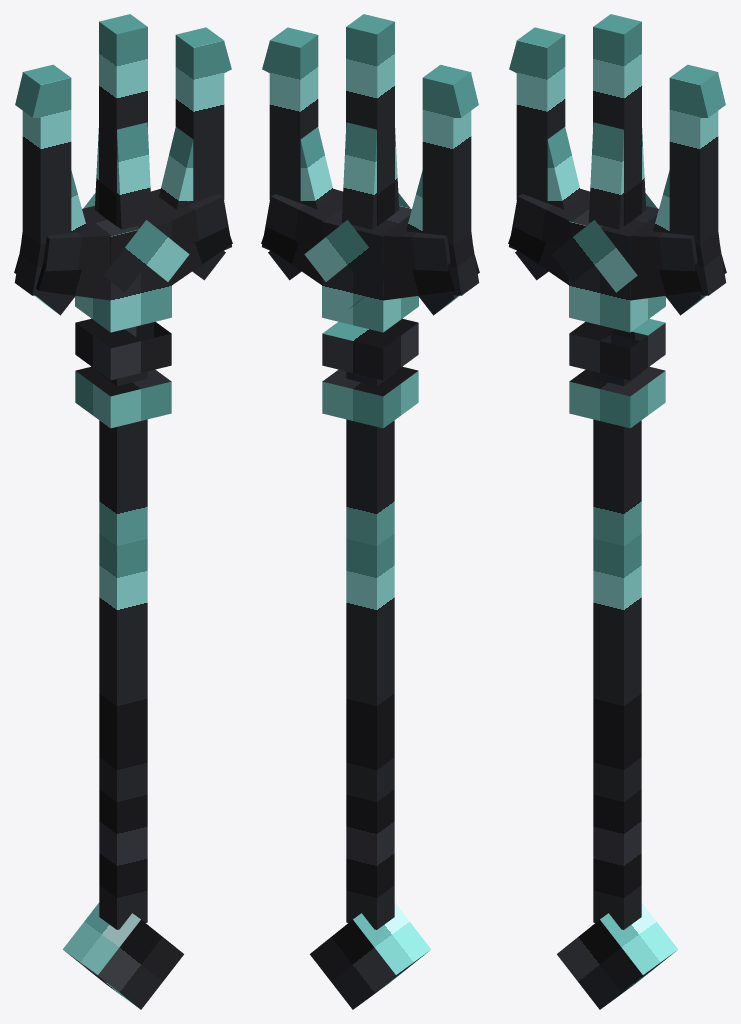
The model's file is infinity_trident.obj.
3 views of the same model, side by side, from view 1: azimuth 30°, elevation 25°; view 2: azimuth 150°, elevation 25°; view 3: azimuth 330°, elevation 25° (orthographic).
Visible parts, largest first — view 1: top, rod, top_ring, top_base_side, base, top_base, middle_core, side, top_base_spike; view 2: top, rod, top_ring, top_base_side, base, top_base, middle_core, side, top_base_spike; view 3: top, rod, top_ring, top_base_side, base, top_base, middle_core, side, top_base_spike.
Boxes of the visible parts, box(x1,y1,x2,y2) form: top: box(15, 14, 231, 244); rod: box(99, 371, 147, 929); top_ring: box(75, 318, 171, 428); top_base_side: box(14, 189, 232, 300); base: box(63, 902, 183, 1009); top_base: box(75, 206, 171, 332); middle_core: box(83, 193, 189, 292); side: box(71, 127, 193, 232); top_base_spike: box(14, 200, 231, 315); top: box(262, 14, 478, 244); rod: box(346, 371, 394, 929); top_ring: box(322, 318, 418, 428); top_base_side: box(261, 189, 479, 300); base: box(310, 902, 430, 1009); top_base: box(322, 206, 418, 332); middle_core: box(304, 193, 410, 307); side: box(300, 127, 422, 232); top_base_spike: box(262, 200, 479, 315); top: box(509, 14, 725, 244); rod: box(593, 334, 641, 929); top_ring: box(569, 318, 665, 428); top_base_side: box(508, 189, 726, 300); base: box(557, 902, 677, 1009); top_base: box(569, 206, 665, 332); middle_core: box(551, 193, 657, 292); side: box(547, 127, 669, 232); top_base_spike: box(509, 200, 726, 315).
Bounding box in the file's own units: 0.4086 × 1.9 × 0.1625.
